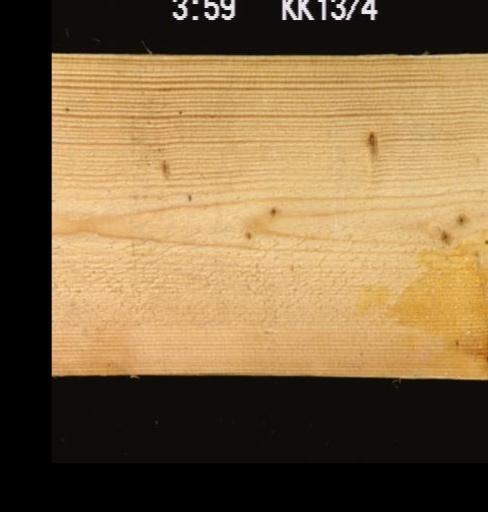small_knot: (362, 128, 380, 166), (156, 156, 169, 179), (265, 204, 277, 218)
